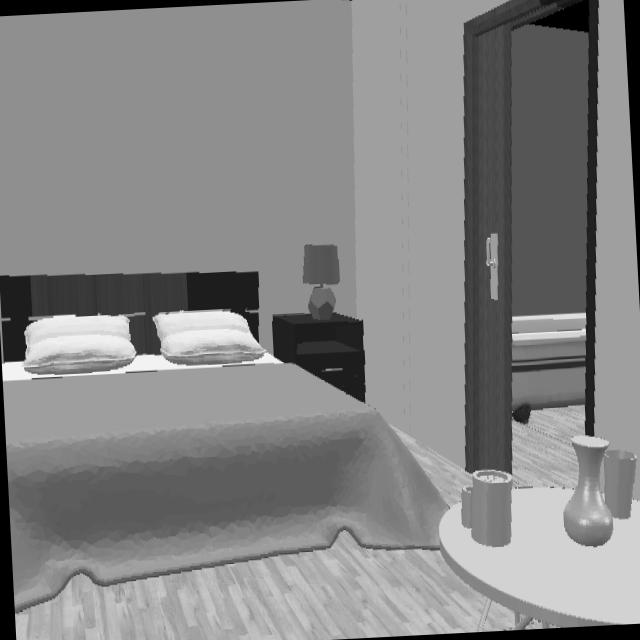bed: (0, 273, 441, 611)
lamp: (303, 246, 339, 319)
nighttable: (273, 313, 365, 402)
pillow: (24, 315, 136, 375), (153, 310, 265, 365)
table: (440, 489, 640, 630)
